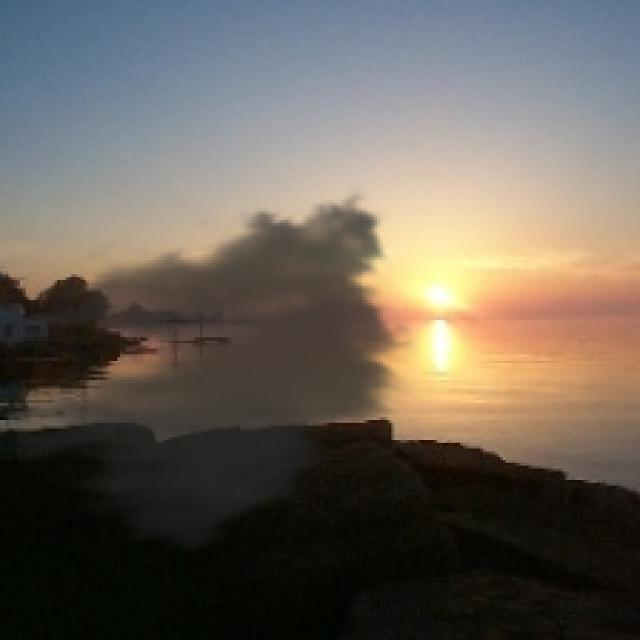Smoke: (17, 183, 420, 563)
